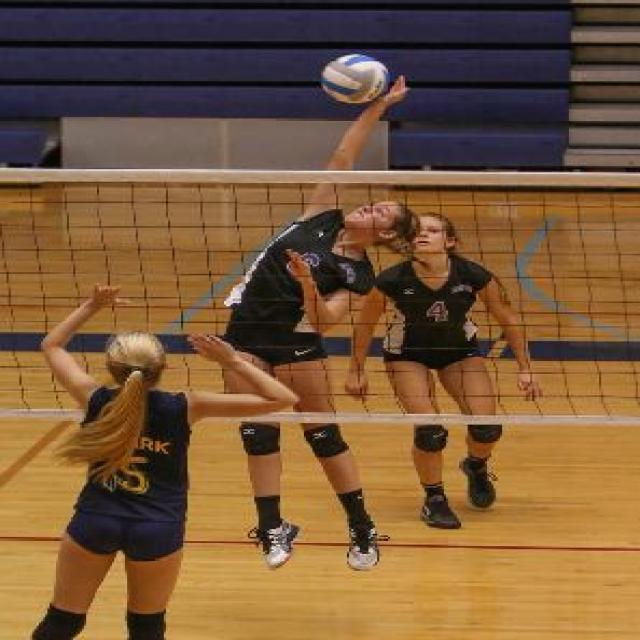volleyball: (321, 54, 389, 103)
